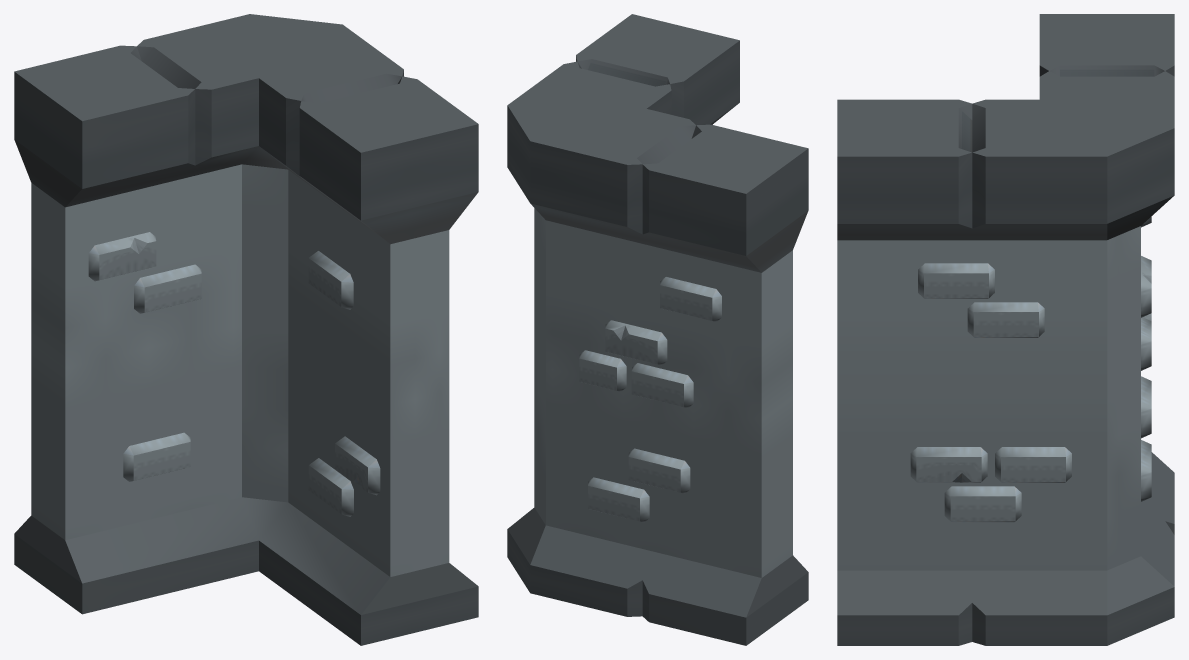
File: wall_corner.glb
3 views of the same model, side by side, from view 1: azimuth 30°, elevation 25°; view 2: azimuth 150°, elevation 25°; view 3: azimuth 270°, elevation 25° (orthographic). The views are drawn at different scales.
Parts seen in each view (by area): view 1: wall_corner; view 2: wall_corner; view 3: wall_corner.
Part boxes in pixels (x1,y1,x2,y2): wall_corner: (14, 14, 478, 645); wall_corner: (507, 14, 808, 645); wall_corner: (837, 14, 1174, 645).
Bounding box in the file's own units: 2.5 × 4 × 2.5.
1 material, 1 textured.
